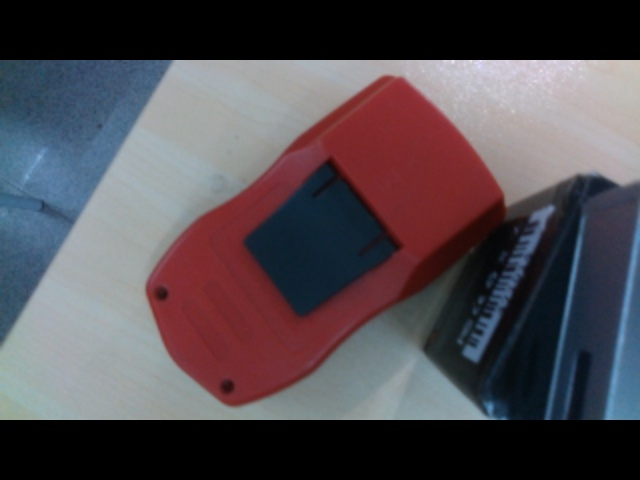Multimeter: (143, 74, 506, 408)
Screw holes: (220, 378, 238, 395), (154, 285, 169, 301)
